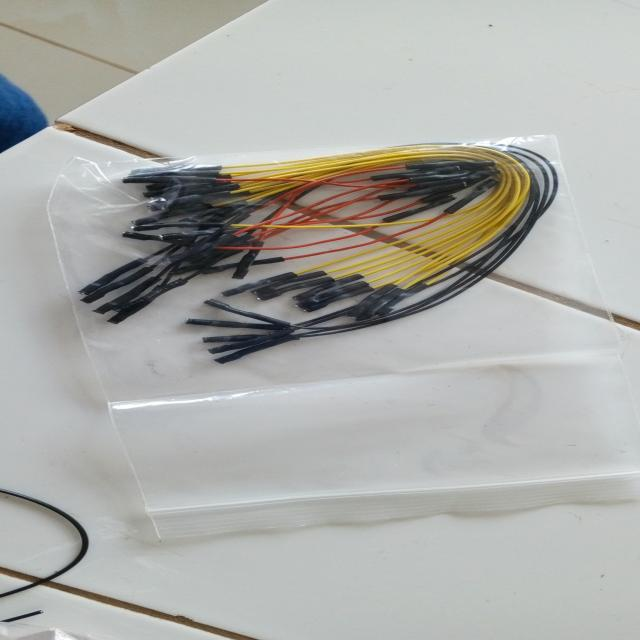BNC Cable: (59, 143, 577, 370)
